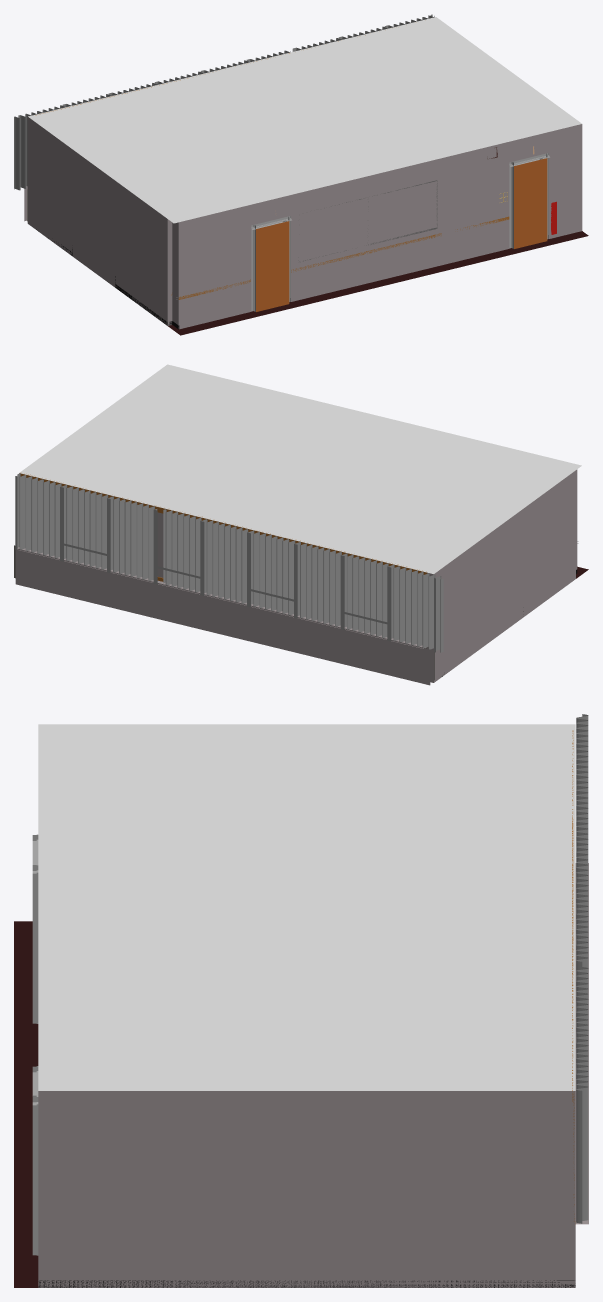
Rendered from conference.obj.
3 views of the same model, one above another, from view 1: azimuth 30°, elevation 25°; view 2: azimuth 150°, elevation 25°; view 3: azimuth 270°, elevation 25° (orthographic). The views are drawn at different scales.
Parts seen in each view (by area): view 1: mesh5, mesh0, mesh2, mesh4, mesh35, mesh7, mesh8; view 2: mesh5, mesh0, mesh35, mesh10, mesh8; view 3: mesh5, mesh0, mesh4, mesh35, mesh7, mesh6.
Boxes of the visible parts, x1,y1,x2,y2 form: mesh5: (28,17,581,223); mesh0: (24,117,582,329); mesh2: (256,158,547,311); mesh4: (168,231,588,335); mesh35: (14,15,434,190); mesh7: (251,153,549,311); mesh8: (35,35,509,299); mesh5: (19,364,581,574); mesh0: (15,469,577,685); mesh35: (17,473,443,652); mesh10: (15,476,435,652); mesh8: (19,473,427,581); mesh5: (38,724,575,1090); mesh0: (38,863,588,1287); mesh4: (14,921,38,1287); mesh35: (576,714,588,1223); mesh7: (32,834,38,1255); mesh6: (38,1280,575,1287).
Size of the model in its own units: 2706 by 653 by 1724.
